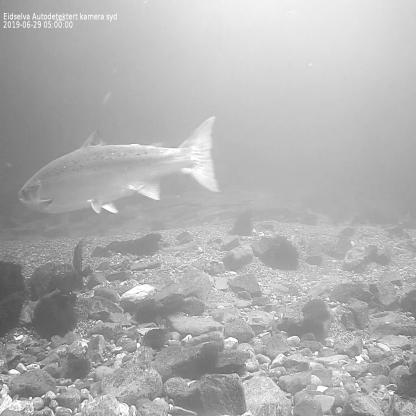salmon: (14, 112, 224, 220)
